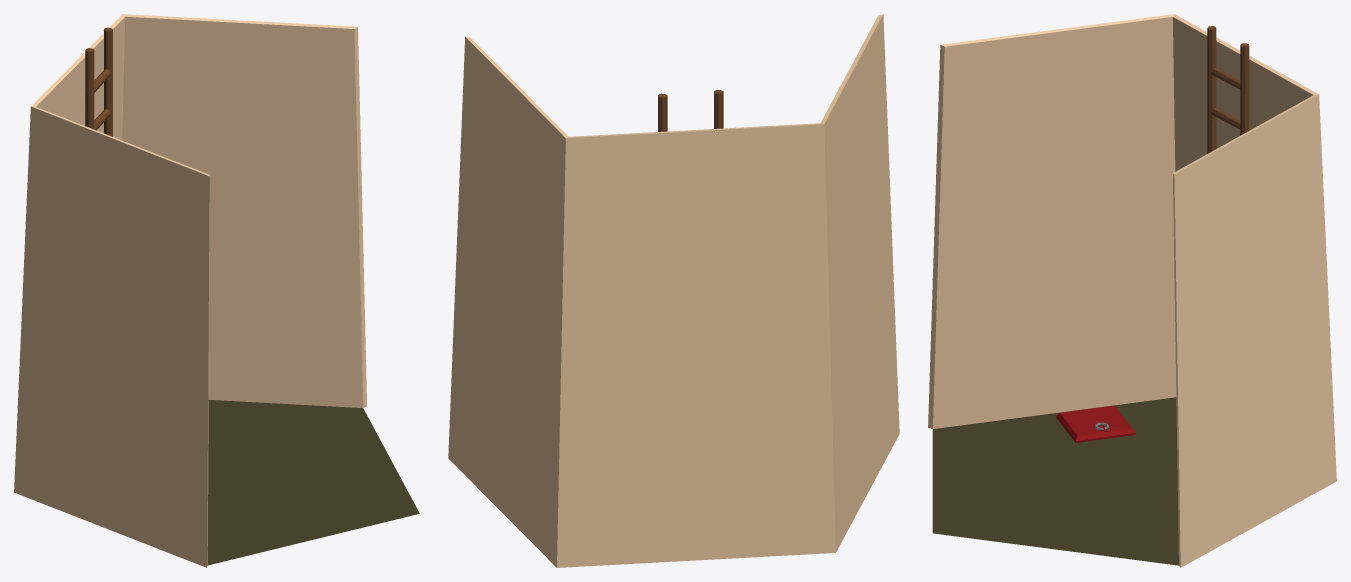
File: stage_3.fbx
3 renders of one model, left to right at view 1: azimuth 30°, elevation 25°; view 2: azimuth 150°, elevation 25°; view 3: azimuth 270°, elevation 25°, orthographic. The views are drawn at different scales.
Visible parts, largest first — view 1: Plane, Cylinder.002; view 2: Plane, Cylinder.002; view 3: Plane, Cylinder.002.
Part boxes in pixels (box(x1,y1,x2,y2)): Plane: box(14, 14, 419, 567); Cylinder.002: box(85, 27, 112, 136); Plane: box(448, 14, 899, 567); Cylinder.002: box(658, 90, 723, 131); Plane: box(928, 14, 1336, 567); Cylinder.002: box(1207, 26, 1249, 153).
Bounding box in the file's own units: 900 × 998 × 896.
